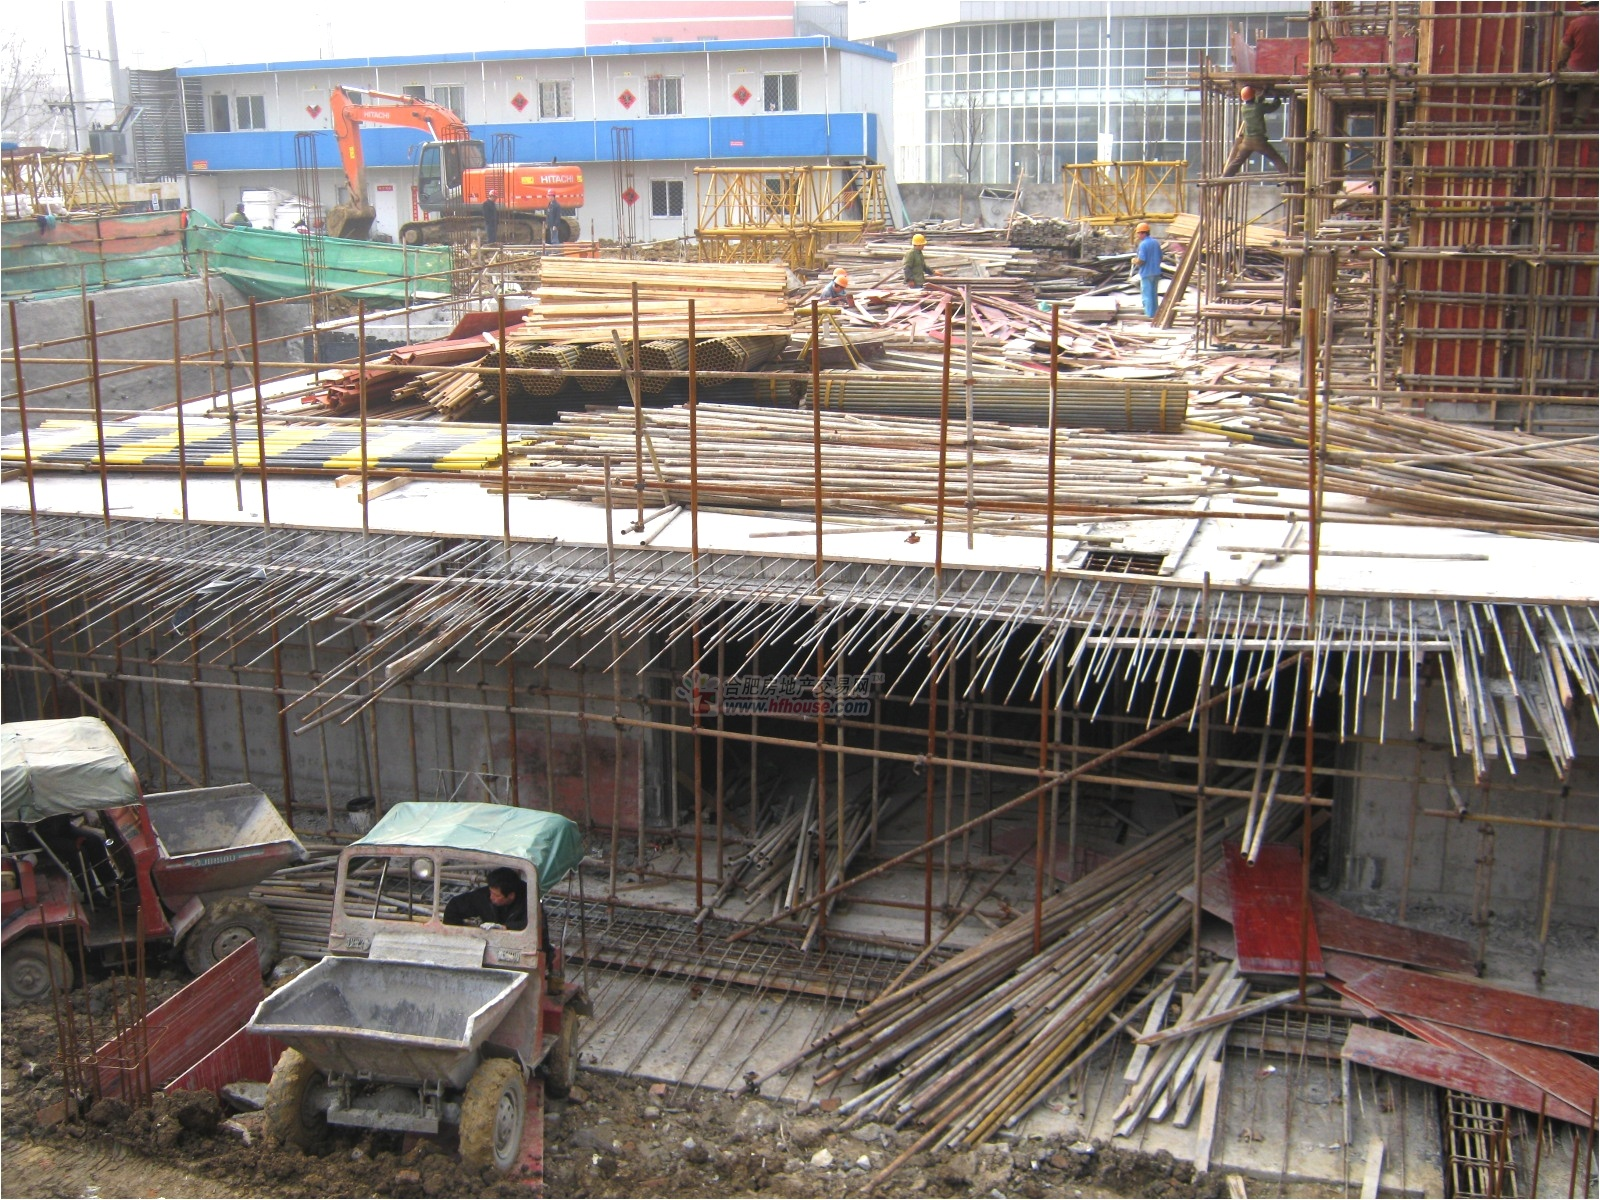none: (483, 863, 519, 908)
red: (488, 188, 499, 202), (546, 188, 556, 200)
yellow: (1238, 84, 1259, 106), (831, 274, 849, 292), (1134, 222, 1151, 239), (911, 232, 926, 251)
